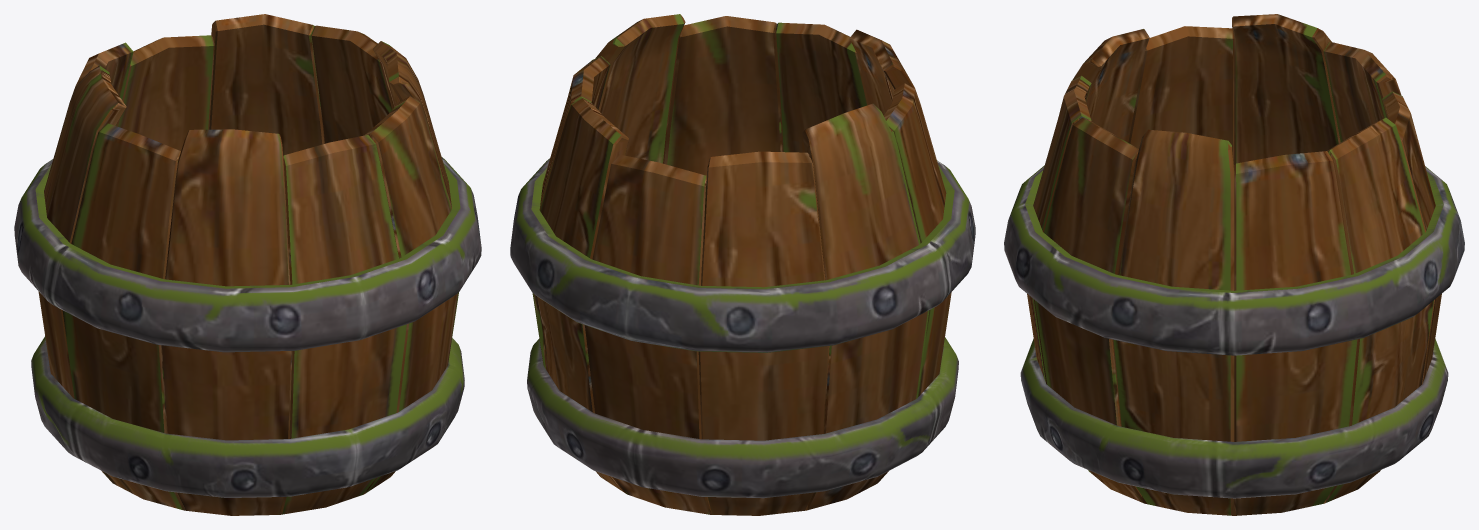
The model's file is Barrel_IndependentParts.fbx.
3 views of the same model, side by side, from view 1: azimuth 30°, elevation 25°; view 2: azimuth 150°, elevation 25°; view 3: azimuth 270°, elevation 25° (orthographic).
Parts seen in each view (by area): view 1: Barrel_5, Plank_8, Barrel_6, Plank_9, Plank_7, Plank_3, Plank_10, Plank_4, Plank_6, Plank_2, Plank_1, Plank_5; view 2: Barrel_5, Plank_5, Barrel_6, Plank_6, Plank_4, Plank_10, Plank_3, Plank_1, Plank_9, Plank_7, Plank_8, Plank_2; view 3: Barrel_5, Plank_1, Plank_2, Barrel_6, Plank_10, Plank_3, Plank_6, Plank_7, Plank_8, Plank_5, Plank_9, Plank_4.
Part boxes in pixels (x1,y1,x2,y2): Barrel_5: (14,157,481,352); Plank_8: (161,129,292,515); Barrel_6: (31,336,464,497); Plank_9: (281,135,406,514); Plank_7: (62,123,182,509); Plank_3: (209,14,324,155); Plank_10: (364,96,458,493); Plank_4: (116,35,214,150); Plank_6: (38,65,126,481); Plank_2: (311,25,393,143); Plank_1: (373,41,451,209); Plank_5: (72,42,133,125); Barrel_5: (510,158,975,352); Plank_5: (698,151,829,515); Barrel_6: (527,337,958,498); Plank_6: (802,103,927,509); Plank_4: (585,154,709,514); Plank_10: (664,16,782,175); Plank_3: (532,97,628,493); Plank_1: (595,14,685,163); Plank_9: (775,22,868,152); Plank_7: (879,83,951,481); Plank_8: (849,29,919,115); Plank_2: (532,56,610,362); Barrel_5: (1004,165,1464,355); Plank_1: (1112,129,1234,515); Plank_2: (1234,151,1357,515); Barrel_6: (1020,339,1448,498); Plank_10: (1035,117,1142,502); Plank_3: (1326,117,1433,502); Plank_6: (1232,14,1340,164); Plank_7: (1128,26,1234,164); Plank_8: (1072,29,1149,142); Plank_5: (1323,41,1401,142); Plank_9: (1027,75,1091,384); Plank_4: (1382,91,1441,384).
Bounding box in the file's own units: 107 × 96.78 × 107.
